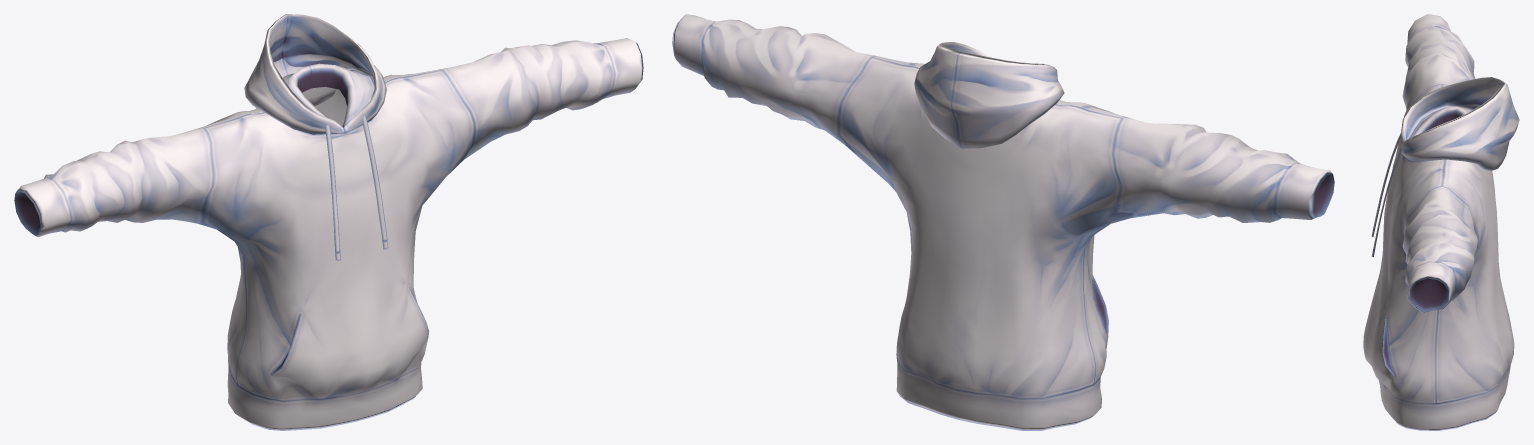
Rendered from hoodie-white.glb.
3 views of the same model, side by side, from view 1: azimuth 30°, elevation 25°; view 2: azimuth 150°, elevation 25°; view 3: azimuth 270°, elevation 25° (orthographic). The views are drawn at different scales.
Visible parts, largest first — view 1: Body.014; view 2: Body.014; view 3: Body.014.
Boxes of the visible parts, x1,y1,x2,y2 form: Body.014: (14,14,643,430); Body.014: (672,14,1334,430); Body.014: (1363,14,1519,430).
Size of the model in its own units: 1.56 by 0.867 by 0.3915.
Materials: 1 (1 with a texture image).
